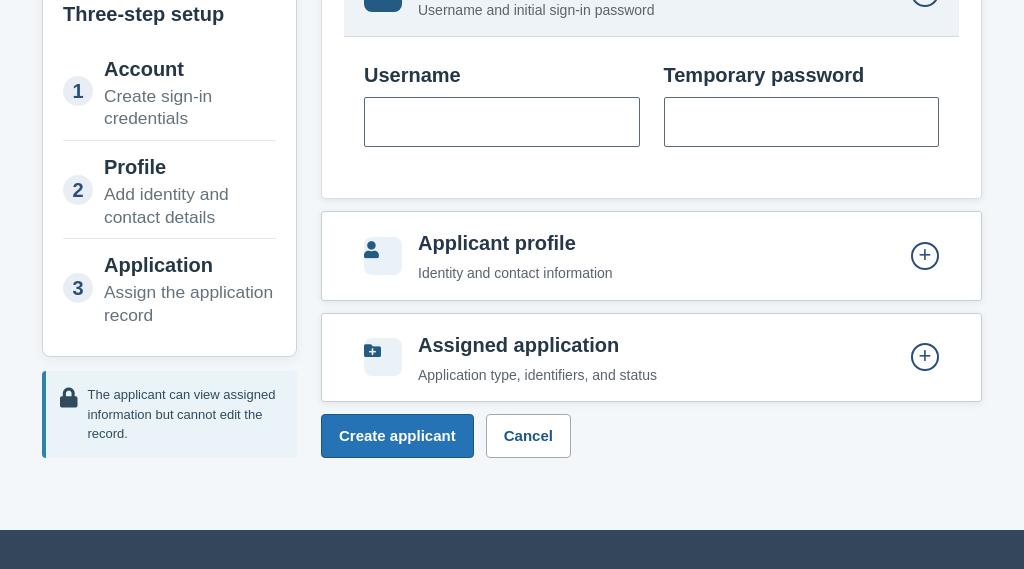
Test case: role routing and database-backed applicant views › shows the logical fields for each structured application type
(page scrolled)
Click the text "Assigned application" at x=519, y=345, box x1=418 y1=334 x2=619 y2=356
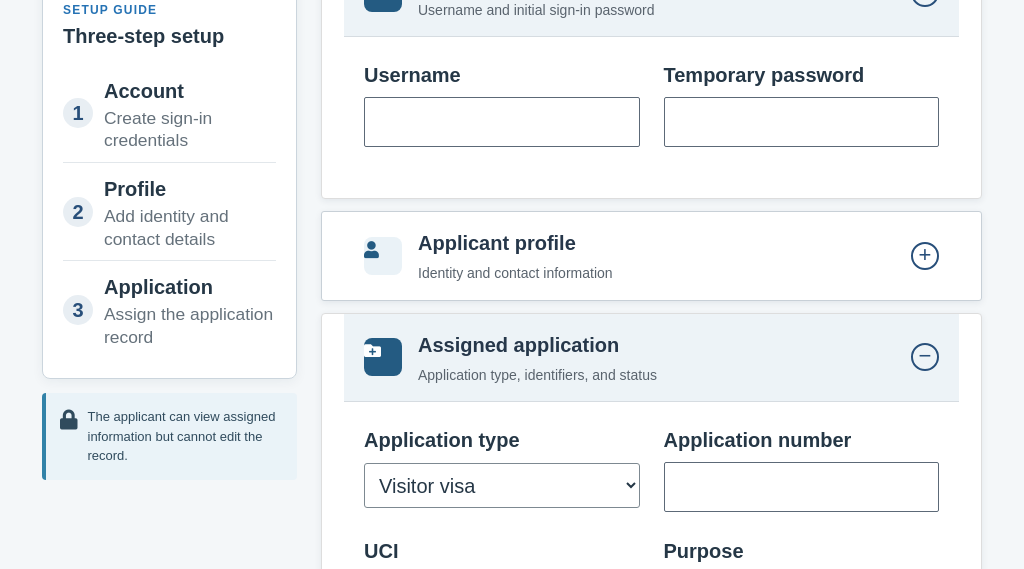
Select "Invitation" in the dropdown labelled "Application type" at x=502, y=486, box x1=364 y1=463 x2=640 y2=508
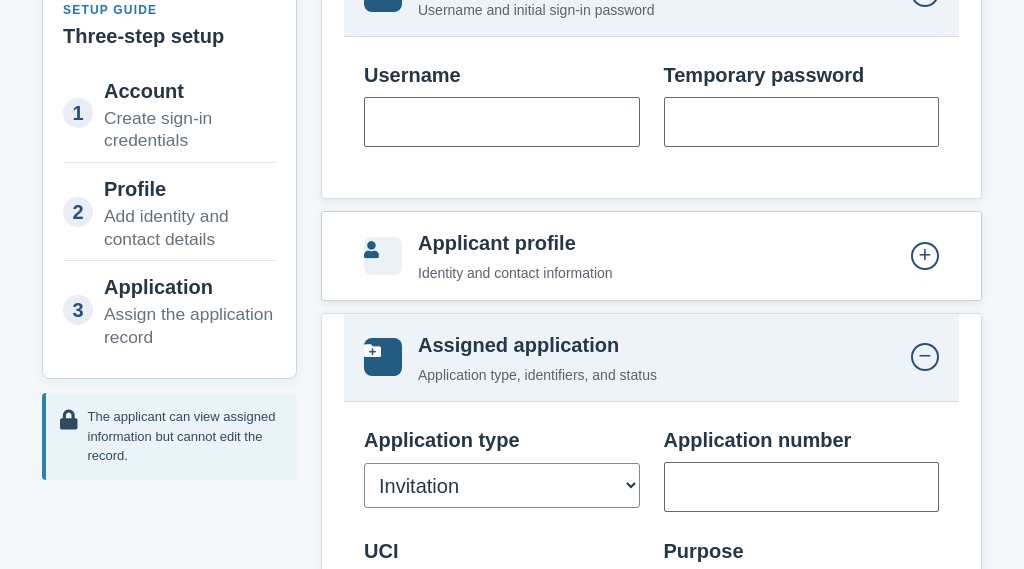
Select "Work and labour" in the dropdown labelled "Application type" at x=502, y=486, box x1=364 y1=463 x2=640 y2=508
(page scrolled)
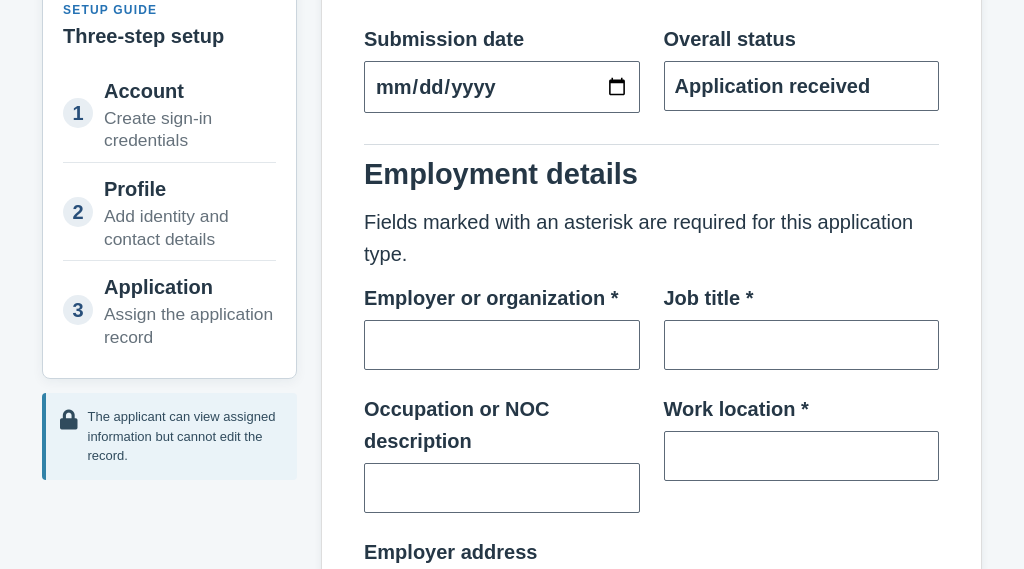
Expected: the field labelled "Employer or organization *" is shown, x1=364 y1=320 x2=640 y2=370
Expected: the heading "Employment details" is shown, x1=364 y1=158 x2=638 y2=190
